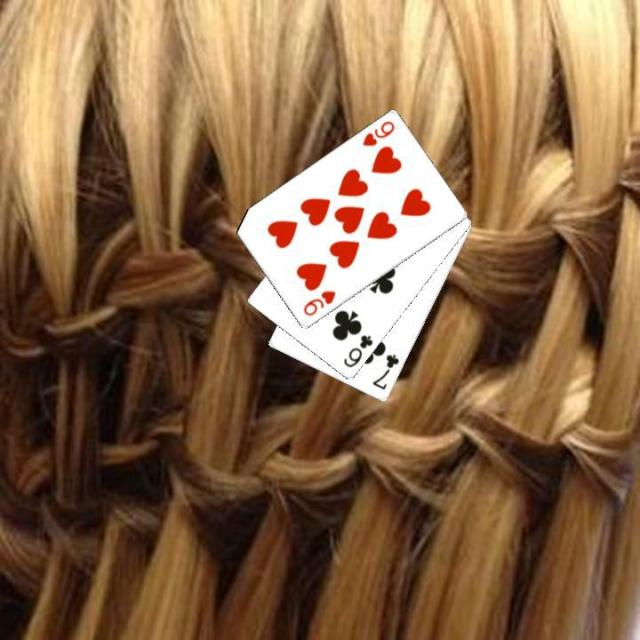6C: (340, 332, 375, 369)
7C: (368, 350, 401, 392)
9H: (298, 287, 338, 318), (358, 118, 396, 148)
